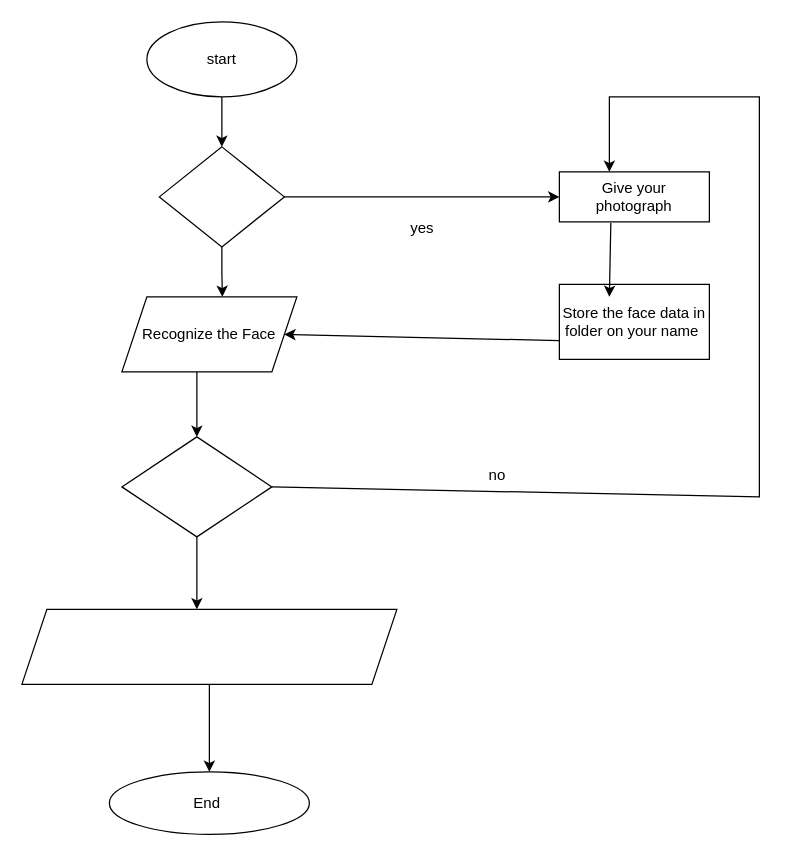
Some shapes in this 791 by 856 pixel diagram are drawn without their labels. The shapes that lost their labels are listed below. From the top down, each one's centre as x and y in pixels, then its label:
At pixel 221 196: "new user".
At pixel 196 486: "Face Recognized".
At pixel 209 646: "stored in Csv file with registartion numder and date time of Entry".
